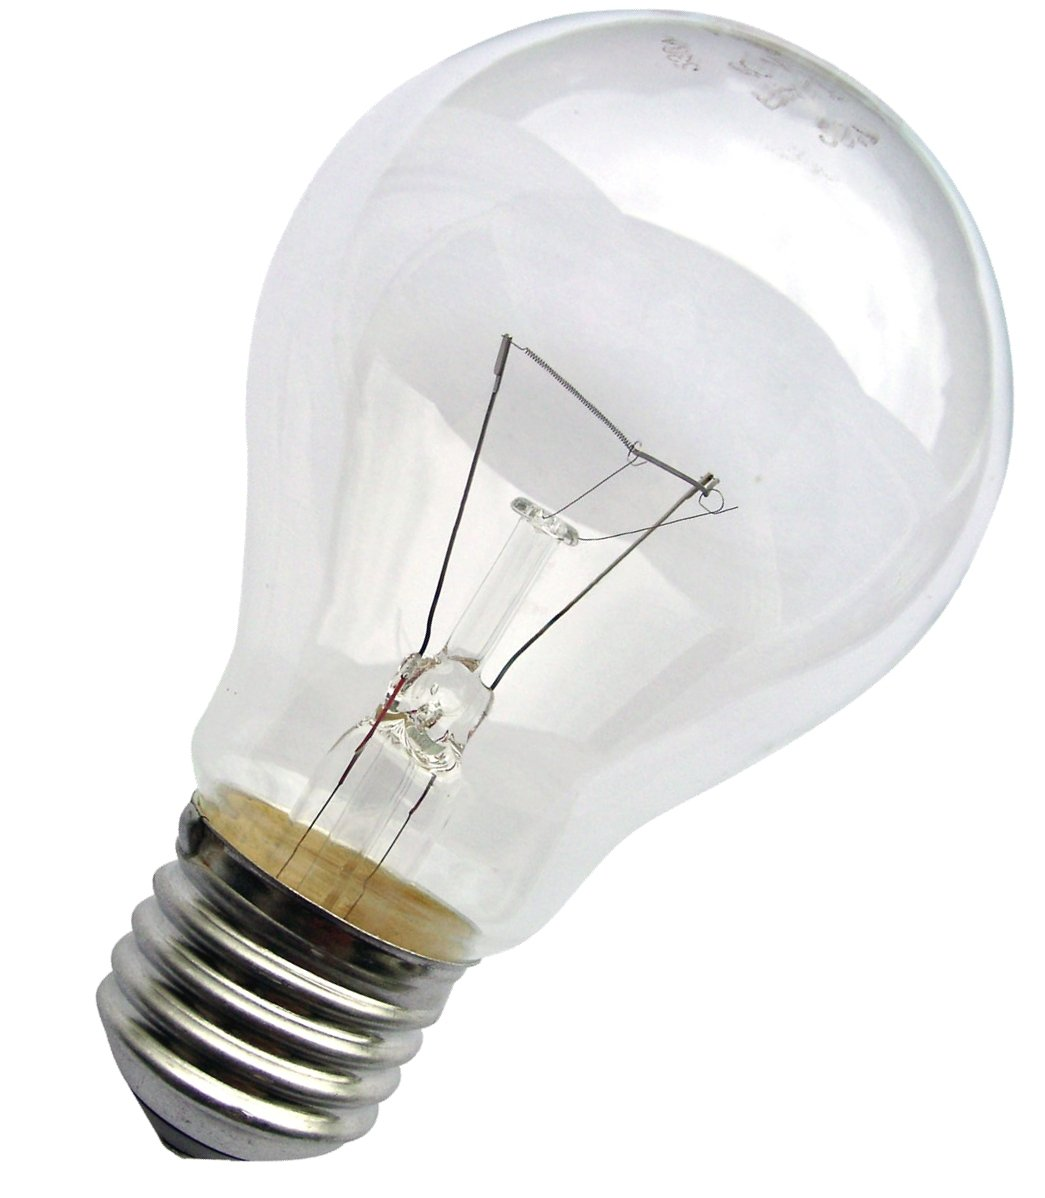Light_bulb: (87, 7, 1019, 1166)
